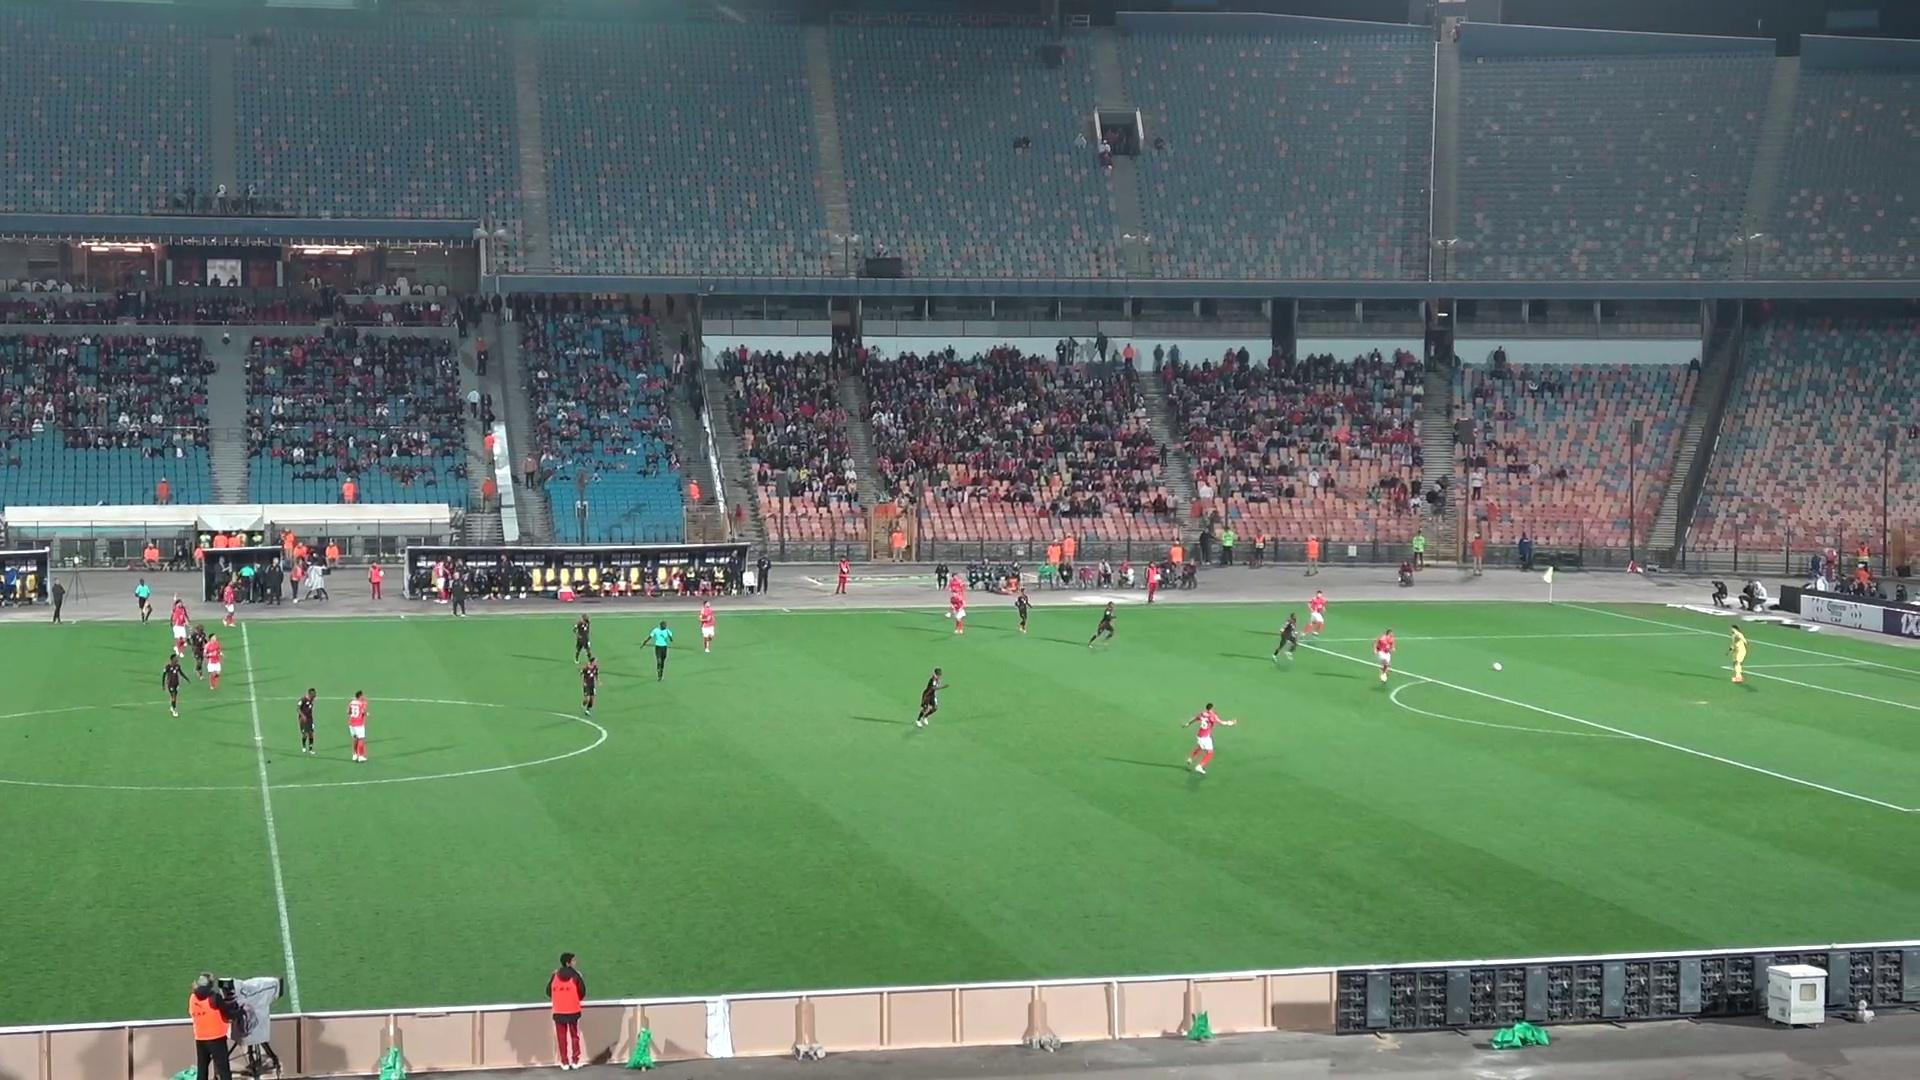Ball: (1489, 662, 1503, 673)
GK1: (1727, 622, 1749, 683)
Refree: (640, 620, 674, 679), (133, 579, 156, 622)
Team1: (1185, 703, 1237, 774), (187, 629, 225, 690), (1298, 591, 1328, 637), (348, 692, 368, 761), (219, 579, 247, 626), (1374, 629, 1396, 682), (945, 580, 967, 634), (699, 601, 717, 651), (171, 593, 189, 642)
Team2: (913, 669, 948, 727), (161, 649, 189, 716), (1271, 613, 1308, 658), (575, 654, 601, 716), (568, 613, 596, 661), (187, 622, 208, 680), (1088, 603, 1116, 646), (297, 688, 315, 753), (1011, 588, 1034, 633)
